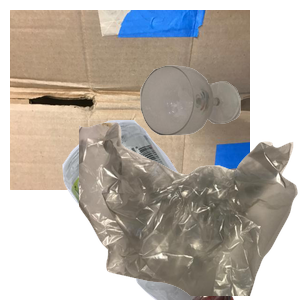cardboard: (10, 10, 250, 190)
glass: (138, 63, 300, 191)
plastic: (25, 120, 252, 300)
trash: (79, 120, 300, 300)
